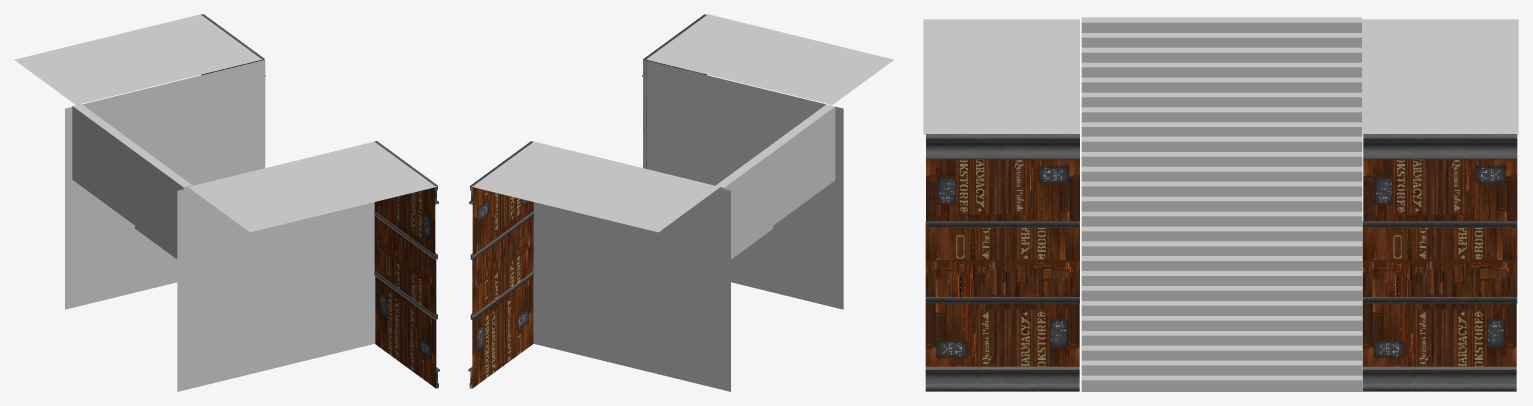
File: wallwithstairs.fbx
3 renders of one model, left to right at view 1: azimuth 30°, elevation 25°; view 2: azimuth 150°, elevation 25°; view 3: azimuth 270°, elevation 25°, orthographic. The views are drawn at different scales.
Visible parts, largest first — view 1: Plane.002, Plane.001, Plane.003, Plane, Cube.002, Wall_03.003, Wall_03.002; view 2: Plane.001, Plane.002, Plane, Plane.003, Cube.002, Wall_03.001, Wall_03.004, Wall_03.003; view 3: Cube, Cube.001, Cube.002, Wall_03.004, Wall_03.002, Plane, Plane.003, Wall_03.001, Wall_03.003.
Part boxes in pixels (left/top/right/bottom): Plane.002: left=177, top=188, right=375, bottom=391; Plane.001: left=65, top=60, right=265, bottom=309; Plane.003: left=188, top=141, right=436, bottom=232; Plane: left=14, top=14, right=262, bottom=104; Cube.002: left=72, top=104, right=192, bottom=255; Wall_03.003: left=374, top=141, right=438, bottom=319; Wall_03.002: left=375, top=253, right=439, bottom=388; Plane.001: left=533, top=188, right=730, bottom=391; Plane.002: left=643, top=60, right=843, bottom=309; Plane: left=471, top=141, right=719, bottom=232; Plane.003: left=646, top=14, right=893, bottom=104; Cube.002: left=715, top=104, right=835, bottom=256; Wall_03.001: left=469, top=141, right=533, bottom=320; Wall_03.004: left=468, top=253, right=533, bottom=388; Wall_03.003: left=642, top=14, right=706, bottom=168; Cube: left=1081, top=256, right=1362, bottom=391; Cube.001: left=1081, top=136, right=1362, bottom=255; Cube.002: left=1081, top=17, right=1362, bottom=136; Wall_03.004: left=1362, top=221, right=1516, bottom=391; Wall_03.002: left=925, top=221, right=1079, bottom=391; Plane: left=1362, top=19, right=1518, bottom=134; Plane.003: left=923, top=19, right=1079, bottom=134; Wall_03.001: left=1363, top=134, right=1517, bottom=303; Wall_03.003: left=926, top=134, right=1079, bottom=303.
Size of the model in its own units: 1148 by 1098 by 2318.
